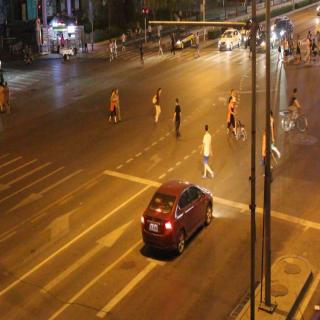Car: (140, 172, 216, 262), (218, 25, 242, 54), (272, 19, 295, 46), (249, 29, 268, 52)
